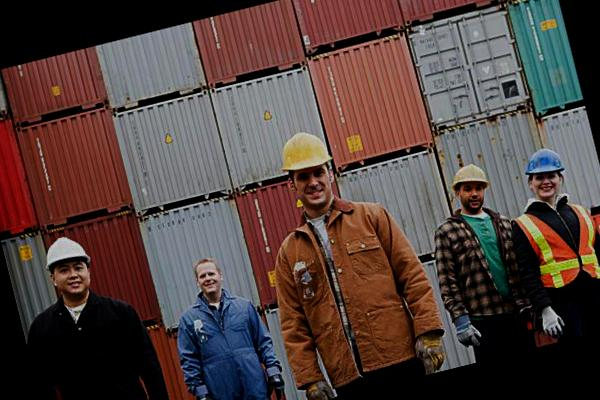no_helmet: (183, 250, 233, 304)
